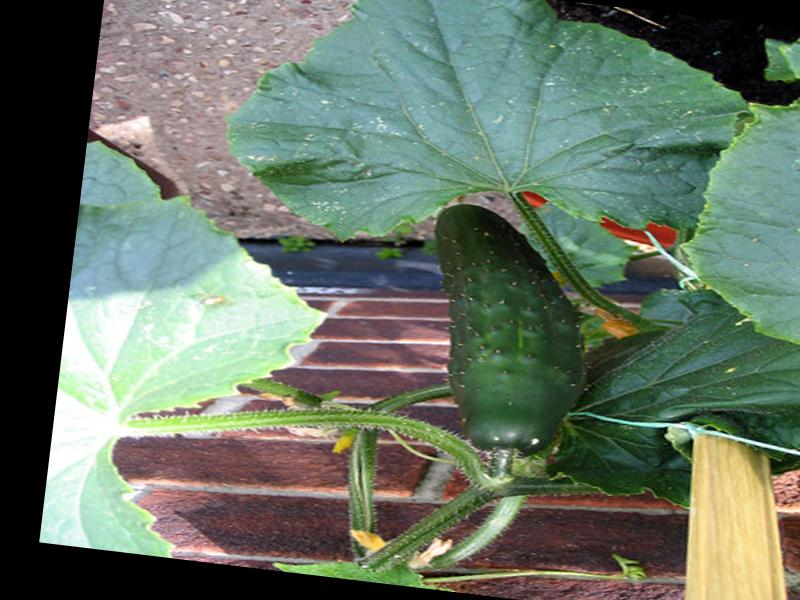Cucumber: (405, 199, 601, 461)
